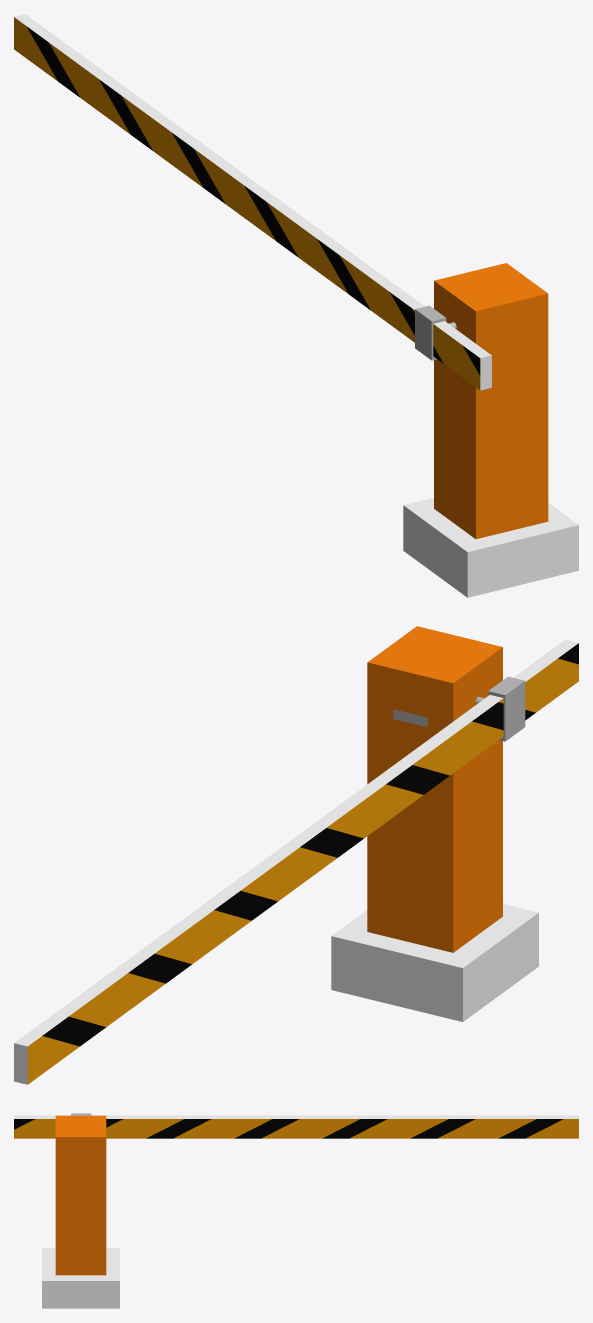
Rendered from cancela-lado-b.fbx.
The picture shows the model from 3 angles, top to bottom: view 1: azimuth 30°, elevation 25°; view 2: azimuth 150°, elevation 25°; view 3: azimuth 270°, elevation 25°; orthographic projection. The views are drawn at different scales.
Parts seen in each view (by area): view 1: box1, Gate_Arm_Side1, box; view 2: box1, Gate_Arm_Side1, box; view 3: box1, Gate_Arm_Side2, box.
Part boxes in pixels (x1,y1,x2,y2): box1: (403, 263, 578, 597); Gate_Arm_Side1: (14, 17, 480, 390); box: (14, 14, 491, 390); box1: (331, 626, 538, 1021); Gate_Arm_Side1: (27, 643, 578, 1084); box: (14, 639, 578, 1084); box1: (42, 1115, 119, 1308); Gate_Arm_Side2: (14, 1119, 578, 1138); box: (14, 1113, 578, 1118).
Size of the model in its own units: 648 by 1372 by 4237.
